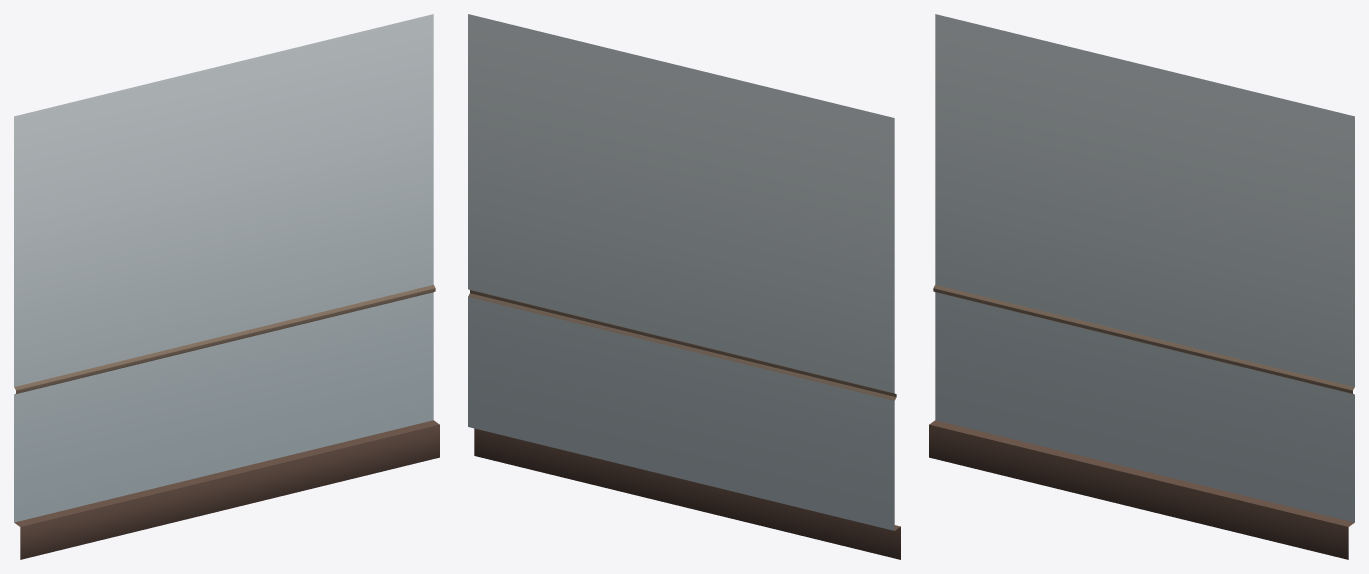
Rendered from Wall_trim_blank.fbx.
3 views of the same model, side by side, from view 1: azimuth 30°, elevation 25°; view 2: azimuth 150°, elevation 25°; view 3: azimuth 330°, elevation 25° (orthographic).
Parts seen in each view (by area): view 1: Wall_trim_blank; view 2: Wall_trim_blank; view 3: Wall_trim_blank.
Part boxes in pixels (x1=…): Wall_trim_blank: x1=14, y1=14, x2=439, y2=559; Wall_trim_blank: x1=468, y1=14, x2=900, y2=559; Wall_trim_blank: x1=929, y1=14, x2=1354, y2=559.
Bounding box in the file's own units: 300 × 300 × 7.5.
